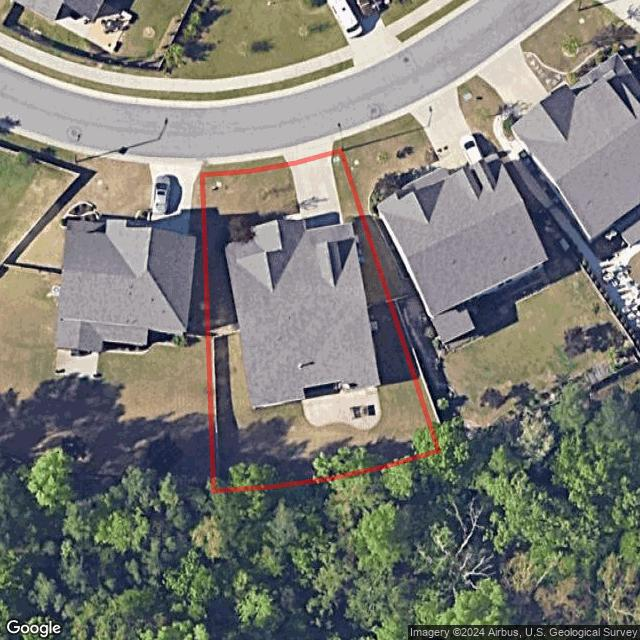Driveway: (289, 153, 343, 229)
Extra-Driveway: (283, 141, 334, 166)
Extra-Lawn: (203, 157, 288, 175), (332, 139, 341, 153)
House: (224, 221, 380, 408)
Lawn: (203, 149, 438, 492)
Other: (302, 384, 381, 429)
Sidewalk: (284, 212, 302, 220)
